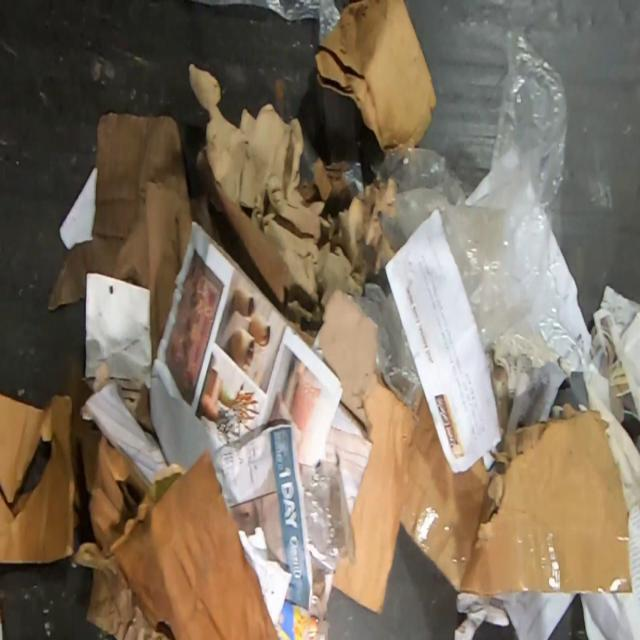cardboard: (318, 288, 630, 616), (0, 392, 280, 639), (48, 111, 192, 362), (189, 146, 322, 342), (314, 0, 439, 157)
soft_plastic: (376, 20, 586, 373), (352, 277, 422, 415), (298, 457, 357, 577), (199, 0, 342, 43)
